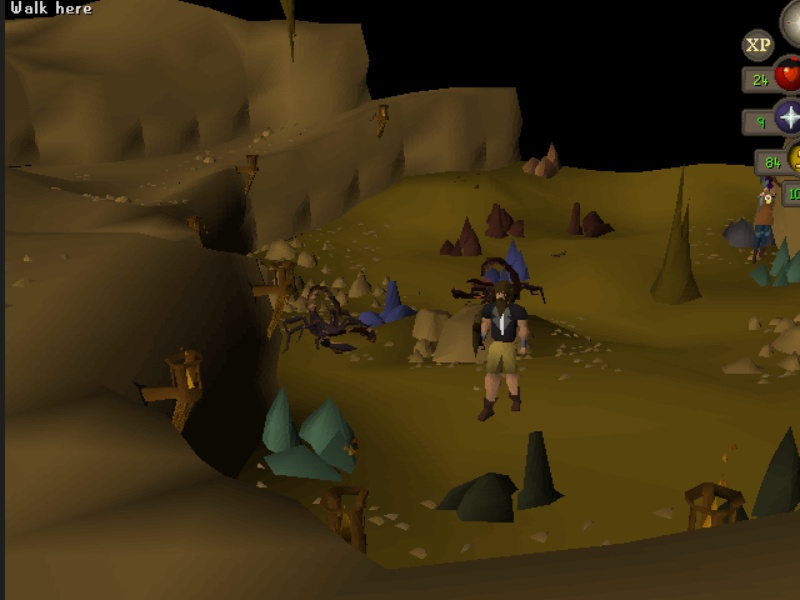adamant: (256, 380, 363, 484), (746, 234, 800, 289)
coal: (431, 418, 565, 526), (746, 421, 800, 521)
copper: (519, 141, 566, 180)
iron: (434, 213, 483, 261), (566, 196, 617, 241), (483, 201, 528, 242)
mithril: (356, 277, 421, 334), (481, 235, 534, 289)
